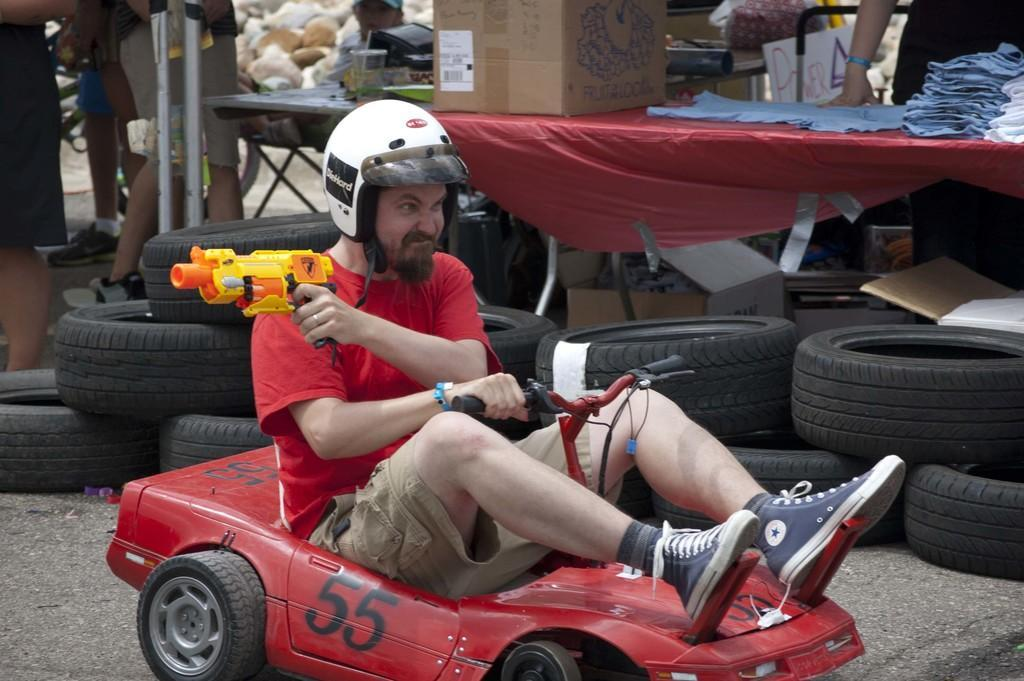helmet: (321, 97, 472, 275)
